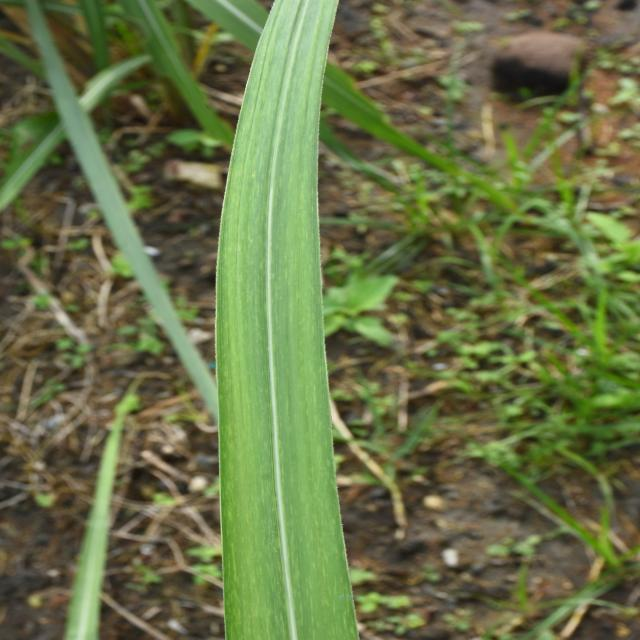Sugarcane: (210, 1, 360, 640)
